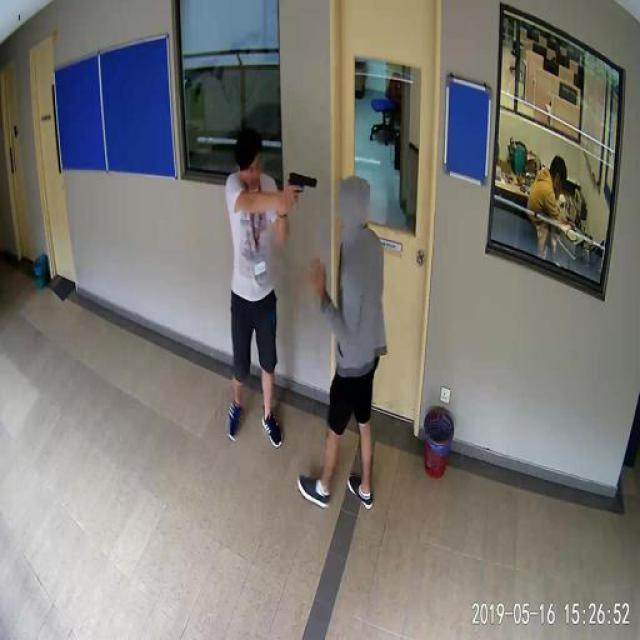weapon: (287, 172, 318, 195)
